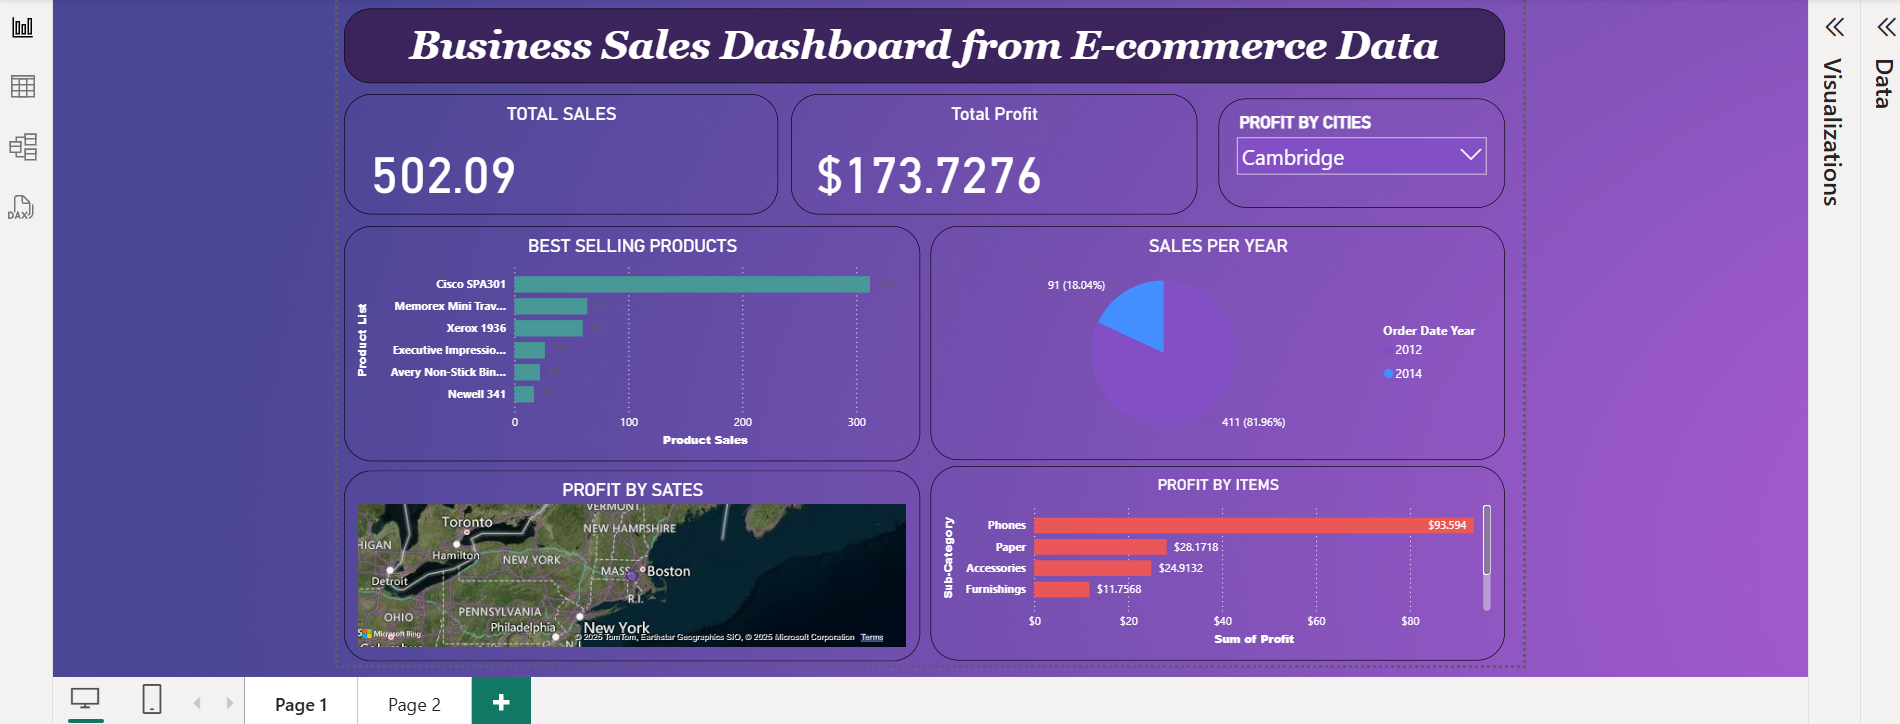

Layout of this report page (visuals, bound fields, positions):
{"tool":"powerbi","page":{"name":"Page 1","canvas":[1280,720],"ordinal":0},"visuals":[{"type":"barChart","title":"BEST SELLING PRODUCTS","fields":{"Category":["Orders.Product Name"],"Y":["Sum(Orders.Sales)"]},"box":[6.5,246.1,621.8,254.2],"z":0},{"type":"textbox","box":[6.7,0,1253.3,91.7],"z":1000},{"type":"pieChart","title":"SALES PER YEAR","fields":{"Category":["Orders.Order Date.Variation.Date Hierarchy.Year","Orders.Order Date.Variation.Date Hierarchy.Quarter","Orders.Order Date.Variation.Date Hierarchy.Month","Orders.Order Date.Variation.Date Hierarchy.Day"],"Y":["Sum(Orders.Sales)"]},"box":[639.6,246.1,620.2,252.6],"z":2000},{"type":"cardVisual","title":"TOTAL SALES","fields":{"Data":["Sum(Orders.Sales)"]},"box":[6.7,103.3,468.3,130],"z":3000},{"type":"cardVisual","title":"Total Profit","fields":{"Data":["Sum(Orders.Profit)"]},"box":[488.3,103.3,438.3,130],"z":4000},{"type":"map","title":"PROFIT BY SATES","fields":{"Category":["Orders.State"],"Size":["Sum(Orders.Profit)"]},"box":[6,510,622,206],"z":5000},{"type":"barChart","title":"PROFIT BY ITEMS","fields":{"Category":["Orders.Sub-Category"],"Y":["Sum(Orders.Profit)"]},"box":[640,506,620,210],"z":6000},{"type":"slicer","fields":{"Values":["Orders.City","Orders.Profit"]},"box":[950.5,108.5,309.3,118.2],"z":7000}]}

Visuals, with their boxes on the page's 1280x720 design canvas (x1, y1, x2, y2). These are canvas units, not pixel positions in the 1900x724 screenshot, which may show the page scaled, cropped or inside an application window:
"BEST SELLING PRODUCTS" barChart: 6 246 628 500
textbox: 7 0 1260 92
"SALES PER YEAR" pieChart: 640 246 1260 499
"TOTAL SALES" cardVisual: 7 103 475 233
"Total Profit" cardVisual: 488 103 927 233
"PROFIT BY SATES" map: 6 510 628 716
"PROFIT BY ITEMS" barChart: 640 506 1260 716
slicer - Orders.City x Orders.Profit: 950 108 1260 227
